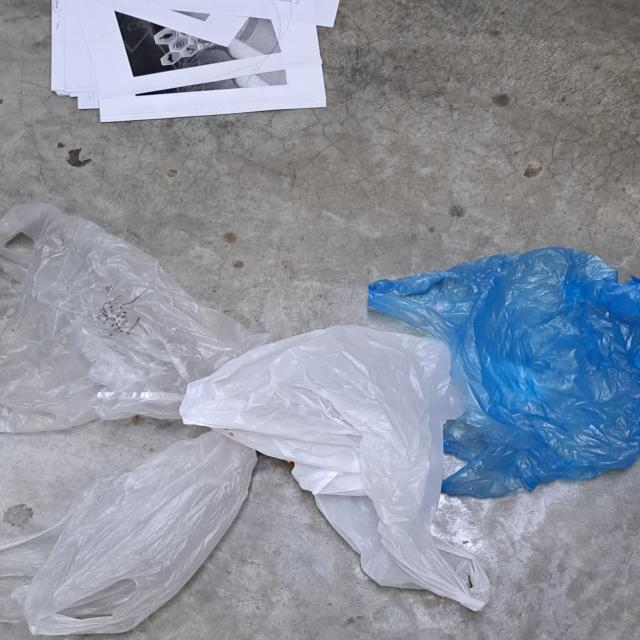paper: (49, 0, 338, 123)
plastic bag: (4, 197, 640, 632)
